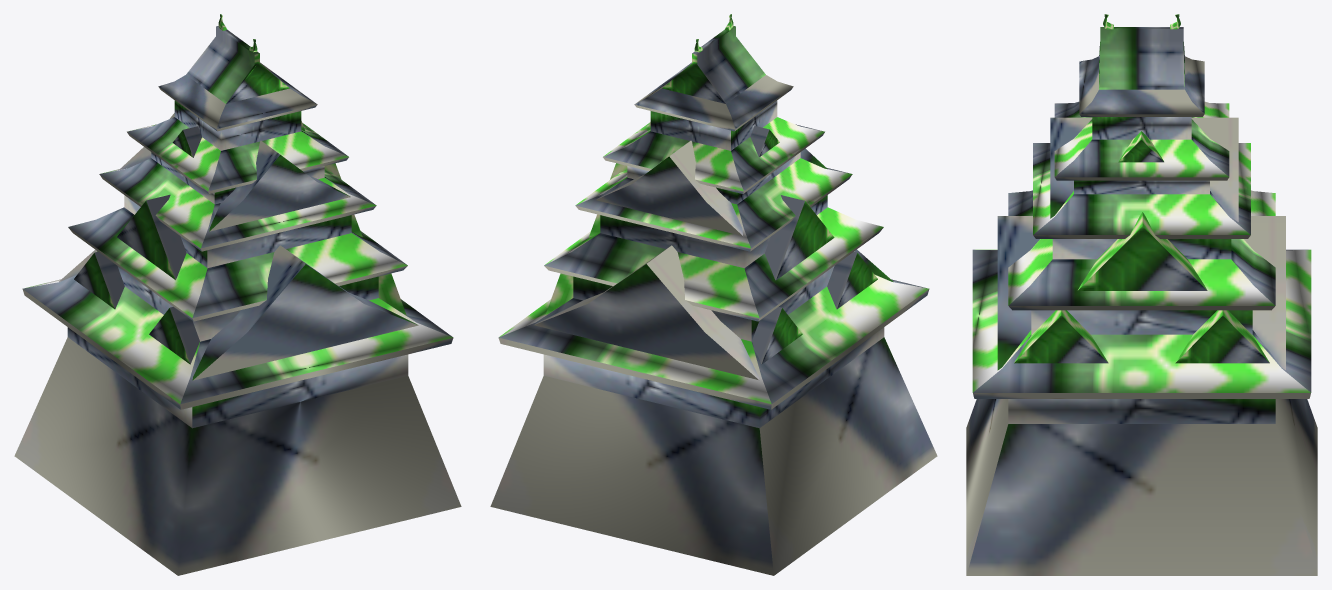
Rendered from ICON.ICO.obj.
3 views of the same model, side by side, from view 1: azimuth 30°, elevation 25°; view 2: azimuth 150°, elevation 25°; view 3: azimuth 270°, elevation 25° (orthographic). The views are drawn at different scales.
Bounding box in the file's own units: 3.14 × 4.81 × 3.14.
